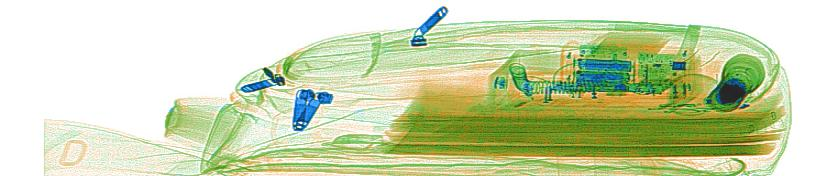battery: (572, 58, 633, 86), (714, 77, 746, 105)
